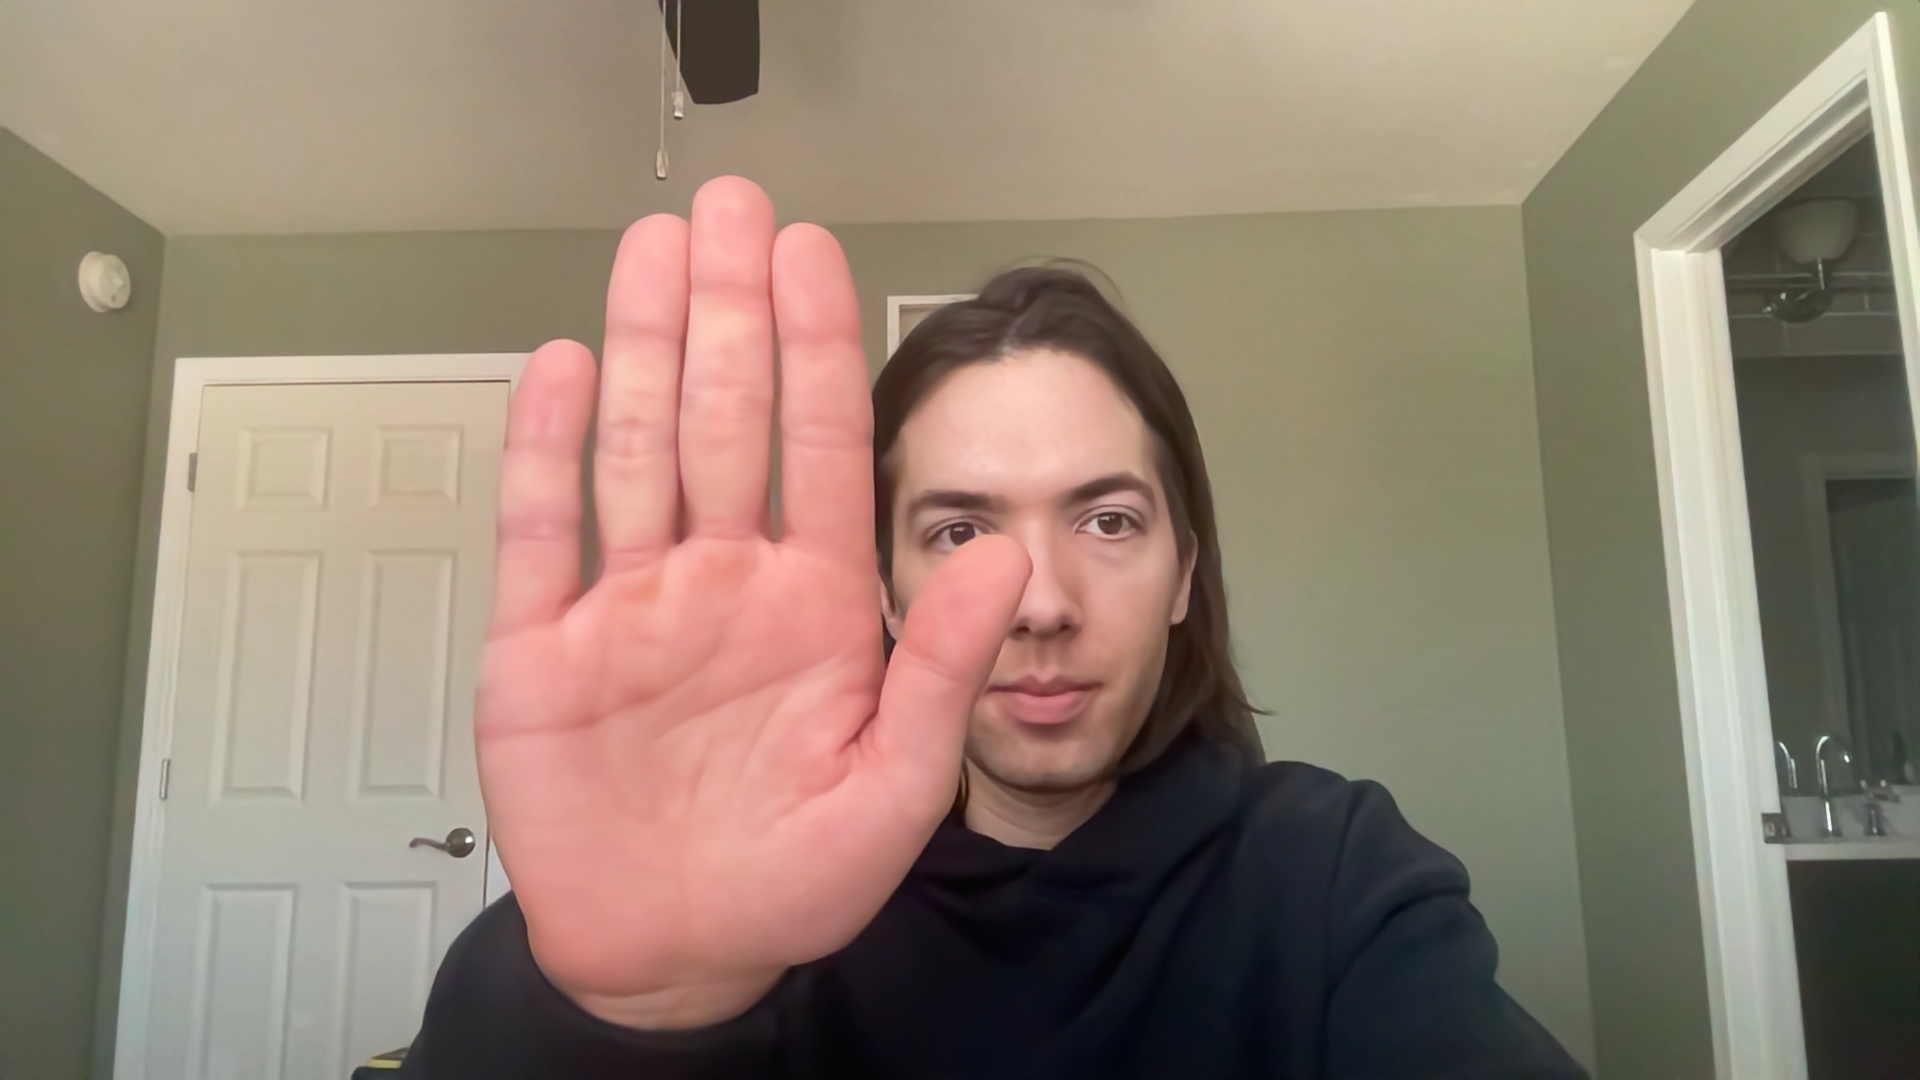Hello: (439, 166, 1051, 1050)
